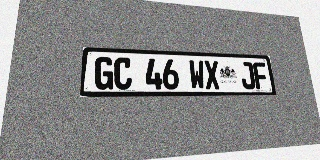4: (145, 58, 163, 89)
6: (162, 59, 179, 89)
C: (114, 57, 132, 90)
F: (253, 62, 269, 89)
G: (94, 56, 114, 90)
J: (239, 62, 256, 89)
W: (189, 60, 206, 89)
X: (204, 60, 220, 89)
